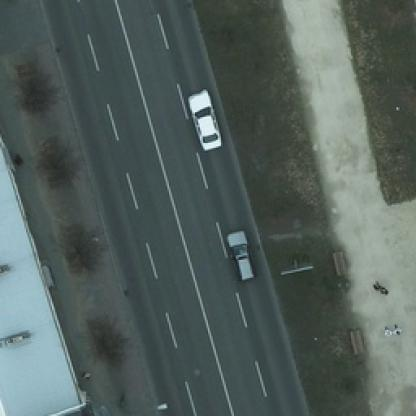car: (186, 88, 219, 151), (226, 229, 255, 281)
